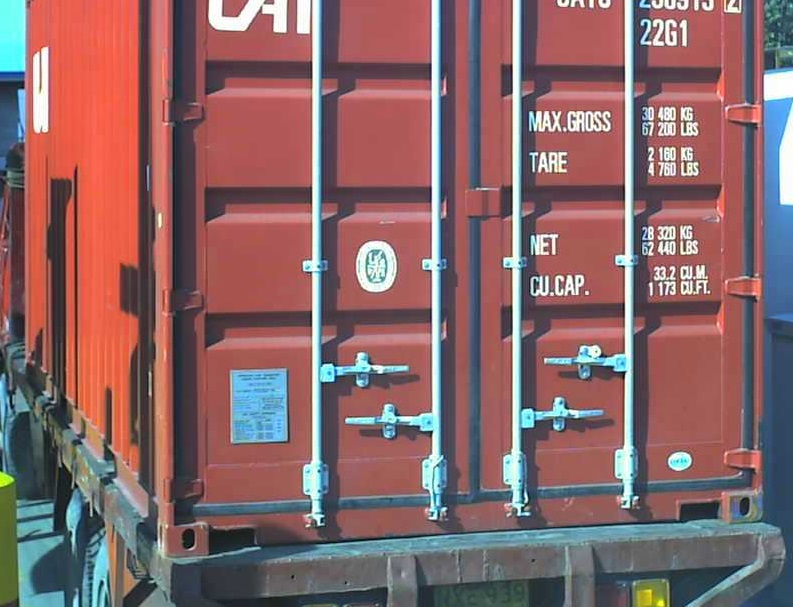container_door: (162, 1, 765, 560)
